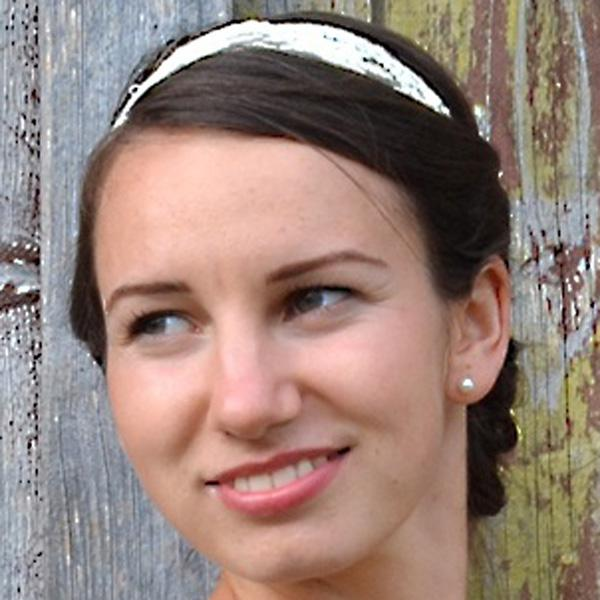Eyes: (266, 268, 375, 341), (112, 296, 212, 364)
